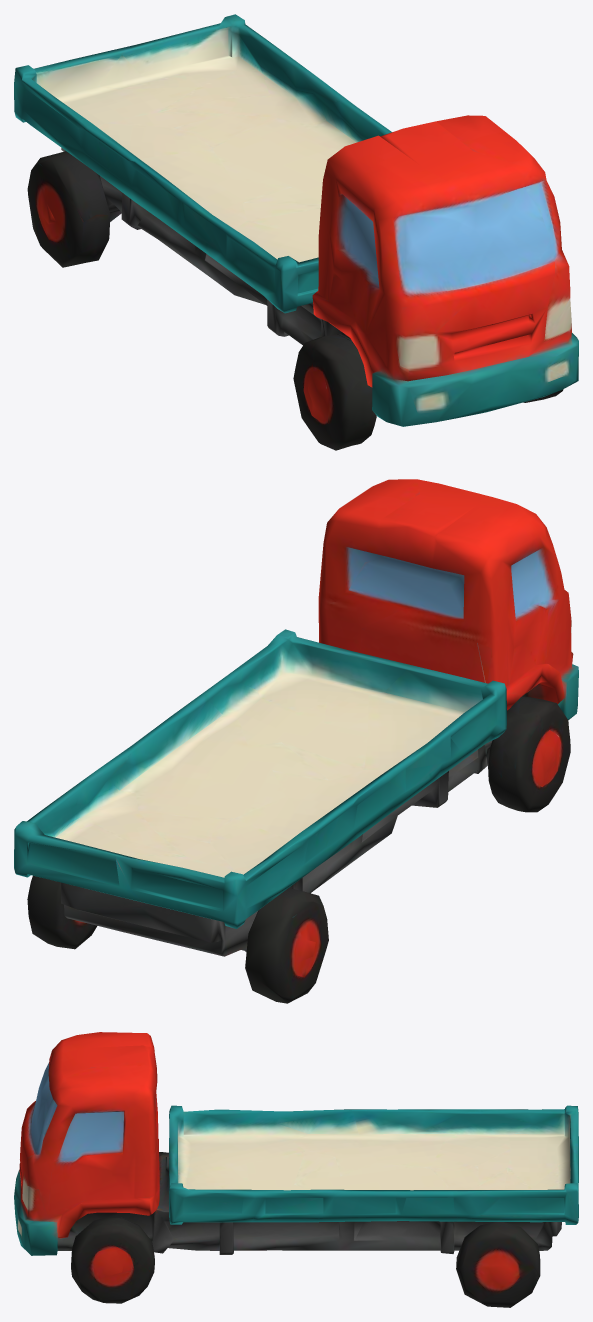
Rendered from factory-delivery-lorry.glb.
The picture shows the model from 3 angles, top to bottom: view 1: azimuth 30°, elevation 25°; view 2: azimuth 150°, elevation 25°; view 3: azimuth 270°, elevation 25°; orthographic projection. The views are drawn at different scales.
Parts seen in each view (by area): view 1: body, wheel-rear-left, wheel-front-left; view 2: body, wheel-rear-left, wheel-front-left, wheel-rear-right; view 3: body, wheel-front-right, wheel-rear-right.
Boxes of the visible parts, x1,y1,x2,y2 form: body: (14, 14, 578, 443); wheel-rear-left: (27, 151, 110, 267); wheel-front-left: (293, 334, 374, 450); body: (14, 479, 578, 956); wheel-rear-left: (245, 888, 328, 1003); wheel-front-left: (491, 697, 570, 812); wheel-rear-right: (27, 875, 97, 949); body: (14, 1032, 578, 1255); wheel-front-right: (71, 1217, 154, 1303); wheel-rear-right: (456, 1222, 540, 1307).
Size of the model in its own units: 2.04 by 2.05 by 5.
Materials: 1 (1 with a texture image).
